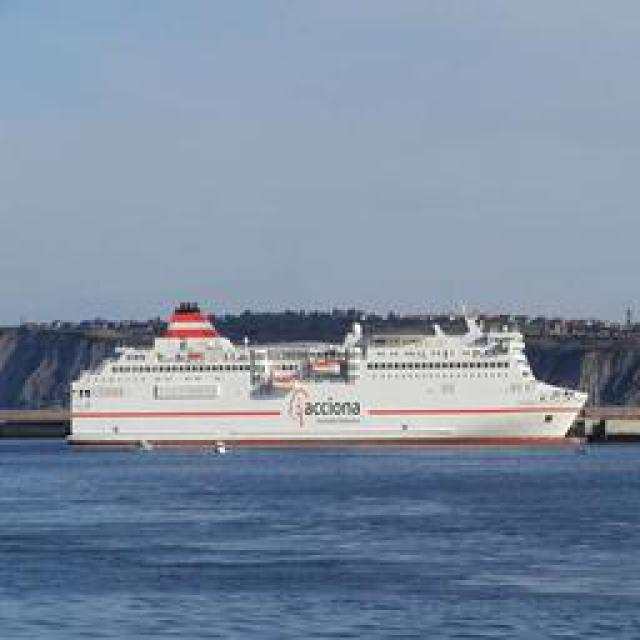Ship: (66, 301, 591, 451)
